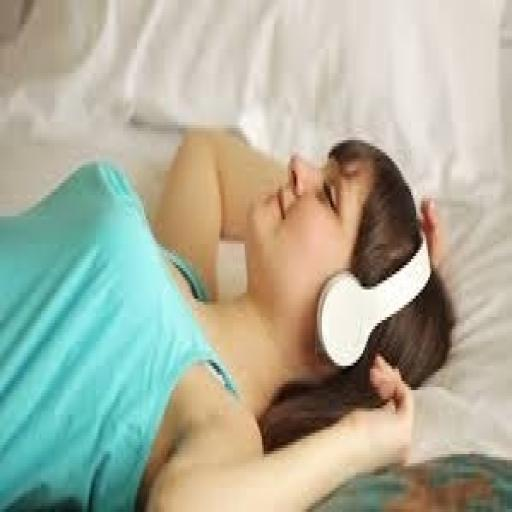listening_to_music: (0, 122, 457, 509)
